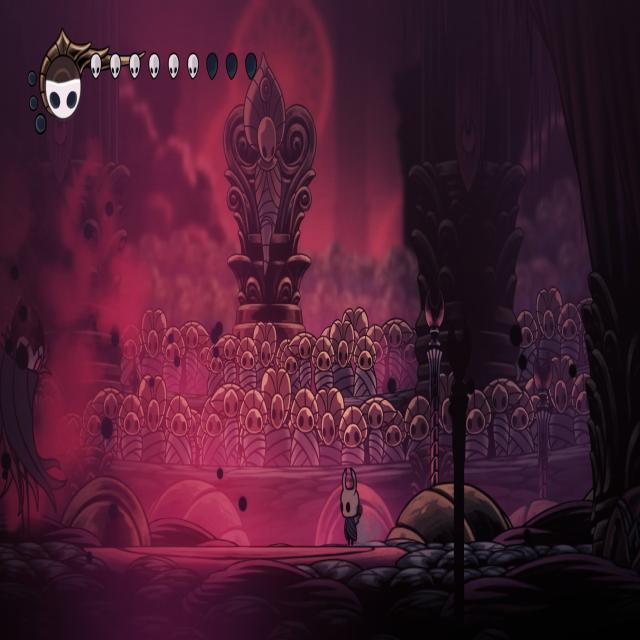Grimm: (0, 292, 70, 536)
Player: (339, 464, 365, 547)
